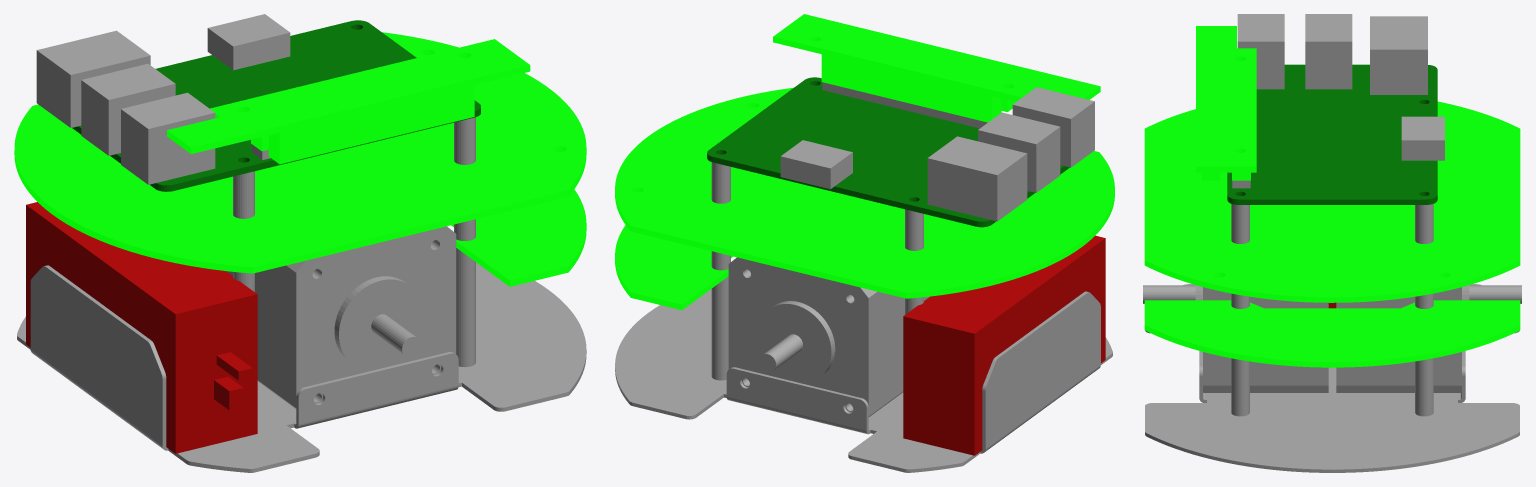
Rendered from green_raspimouse_body.dae.
3 views of the same model, side by side, from view 1: azimuth 30°, elevation 25°; view 2: azimuth 150°, elevation 25°; view 3: azimuth 270°, elevation 25° (orthographic). The views are drawn at different scales.
Parts seen in each view (by area): view 1: RasPiMouse_body_gray, RasPiMouseCircuitMainBoard, RaspberryPiMouseBattery, RasPiMouseCircuitConnectorBoard, RasPiMouse_body_green, RasPiMouseCircuitSensorBoard; view 2: RasPiMouse_body_gray, RasPiMouseCircuitMainBoard, RaspberryPiMouseBattery, RasPiMouse_body_green, RasPiMouseCircuitConnectorBoard, RasPiMouseCircuitSensorBoard; view 3: RasPiMouse_body_gray, RasPiMouseCircuitMainBoard, RasPiMouse_body_green, RasPiMouseCircuitSensorBoard, RasPiMouseCircuitConnectorBoard.
Part boxes in pixels (<box>): RasPiMouse_body_gray: <box>17,14,586,472</box>; RasPiMouseCircuitMainBoard: <box>14,32,586,273</box>; RaspberryPiMouseBattery: <box>26,202,257,453</box>; RasPiMouseCircuitConnectorBoard: <box>167,39,530,164</box>; RasPiMouse_body_green: <box>72,20,480,191</box>; RasPiMouseCircuitSensorBoard: <box>451,189,586,286</box>; RasPiMouse_body_gray: <box>615,82,1112,472</box>; RasPiMouseCircuitMainBoard: <box>615,87,1114,298</box>; RaspberryPiMouseBattery: <box>903,235,1105,455</box>; RasPiMouse_body_green: <box>707,77,1069,227</box>; RasPiMouseCircuitConnectorBoard: <box>773,14,1100,122</box>; RasPiMouseCircuitSensorBoard: <box>615,225,732,310</box>; RasPiMouse_body_gray: <box>1143,14,1521,472</box>; RasPiMouseCircuitMainBoard: <box>1144,101,1520,302</box>; RasPiMouse_body_green: <box>1227,64,1437,204</box>; RasPiMouseCircuitSensorBoard: <box>1144,300,1520,367</box>; RasPiMouseCircuitConnectorBoard: <box>1196,26,1256,180</box>.
Size of the model in its own units: 0.13 by 0.101 by 0.0793.
